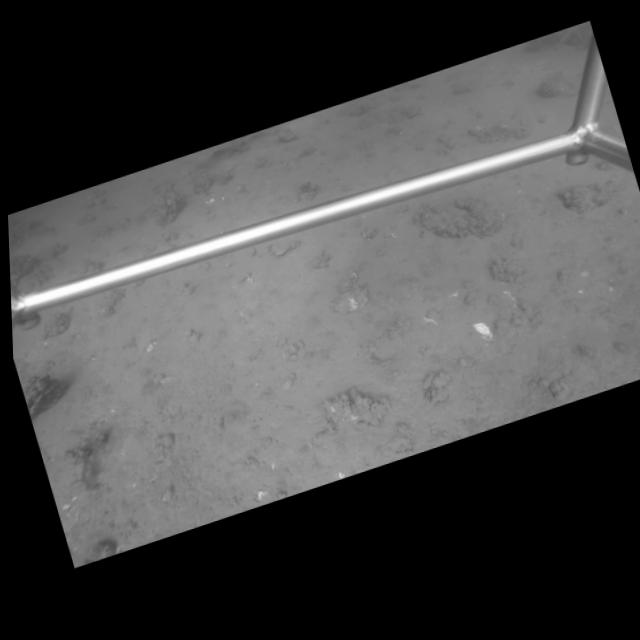Oyster-Indeterminate: (415, 197, 505, 237), (266, 239, 300, 258)
Oyster-Open: (27, 380, 70, 416)
